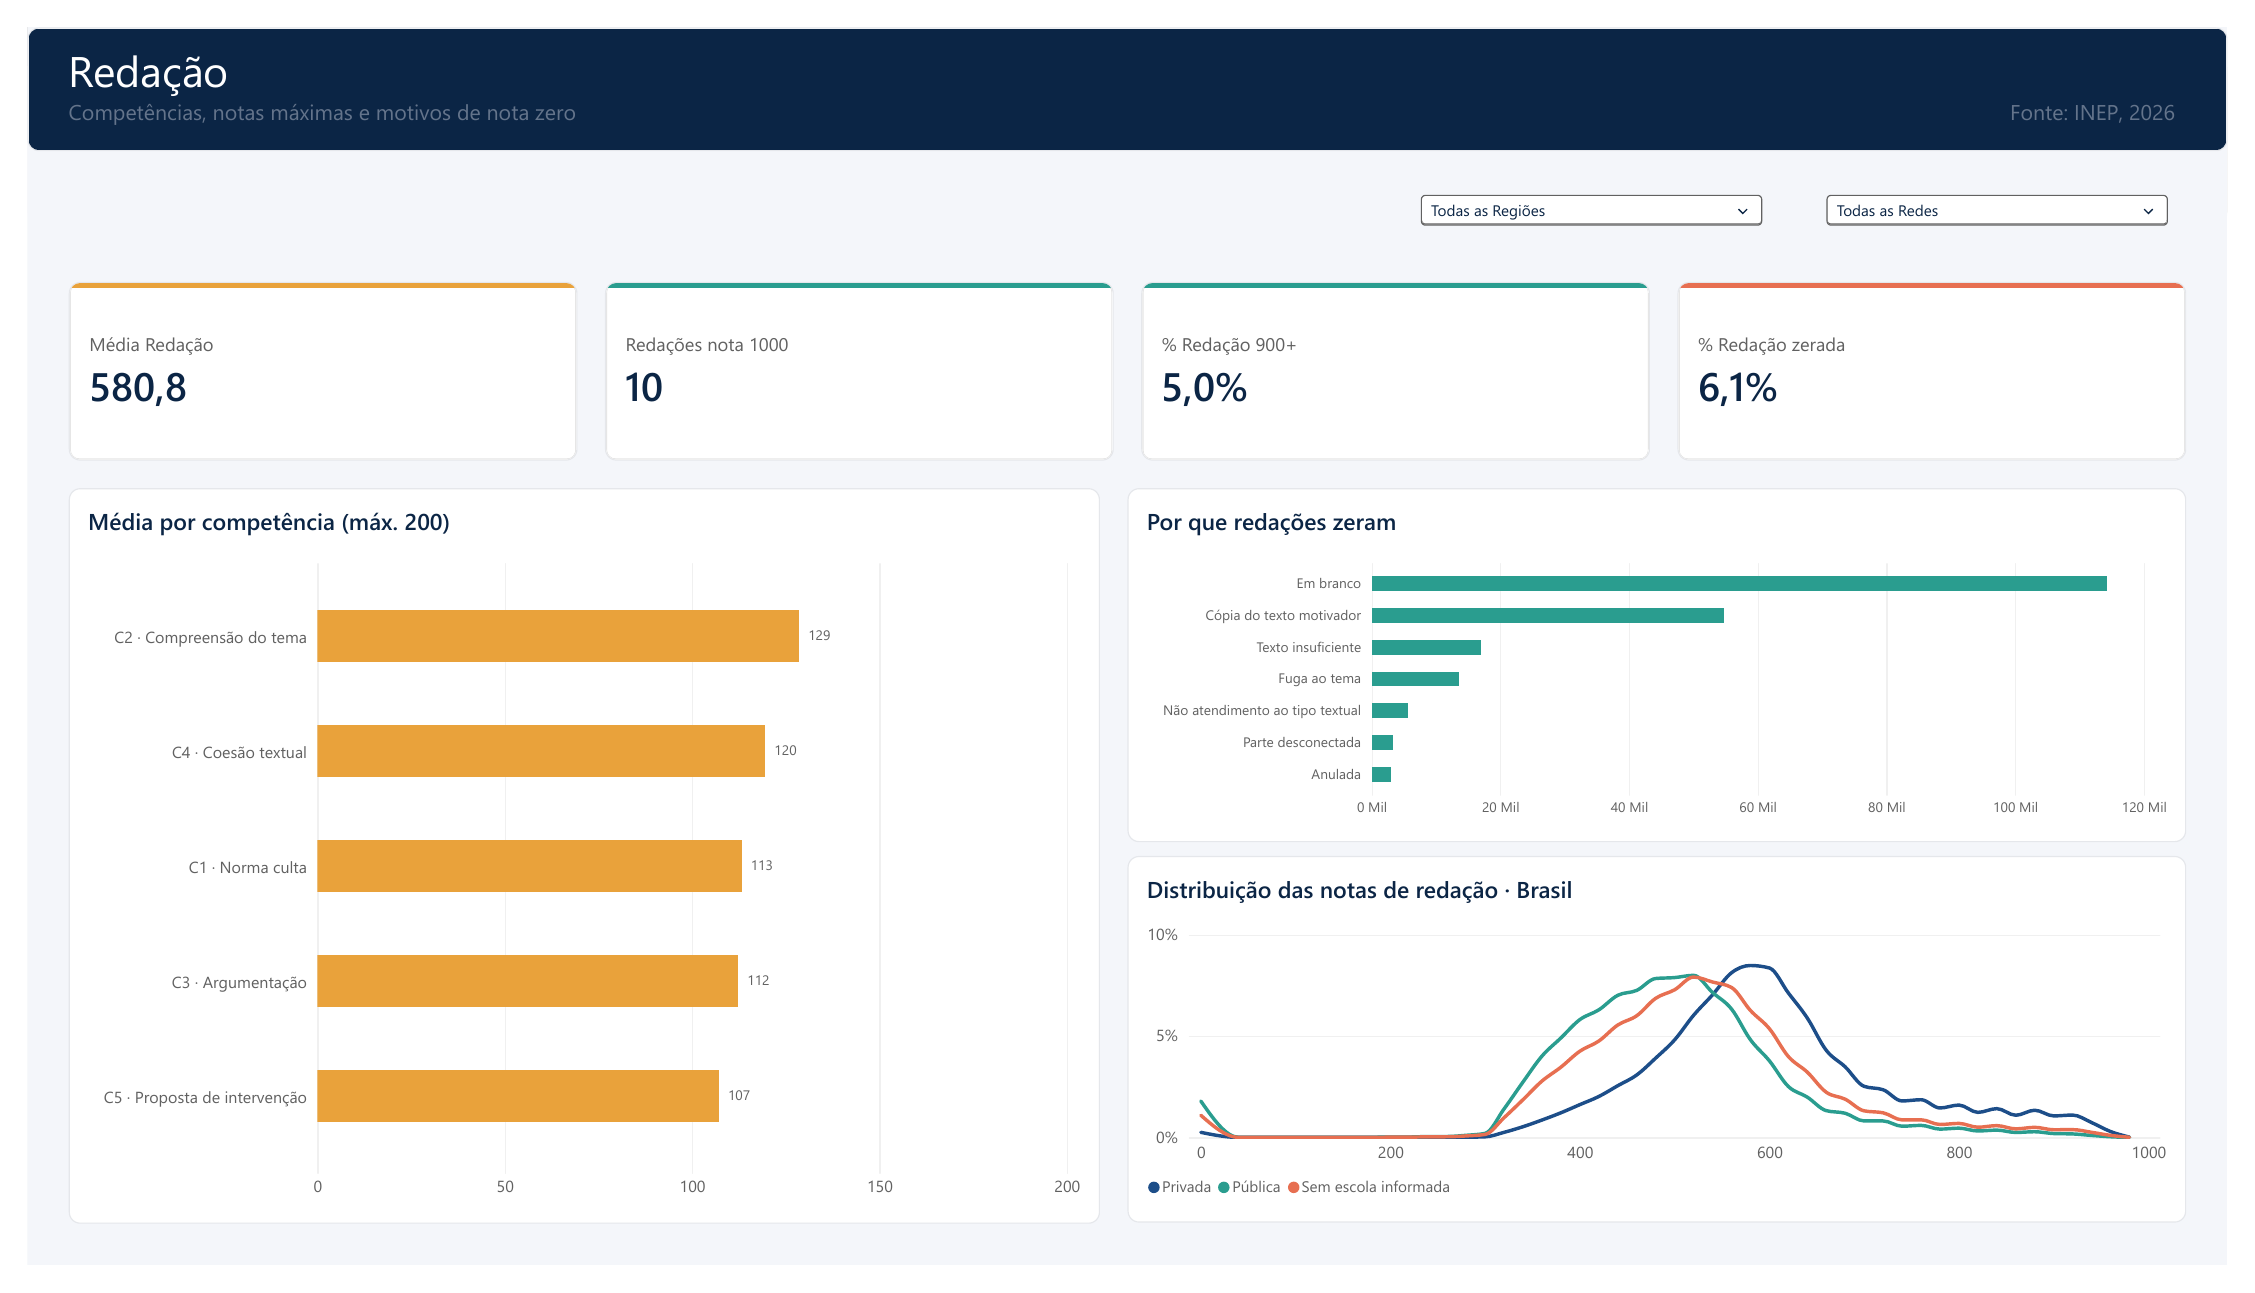

What the dashboard file says about the page in this screenshot:
{"tool":"powerbi","page":{"name":"Redação","canvas":[1920,1080],"ordinal":2},"visuals":[{"type":"listSlicer","fields":{"Values":["dim_uf.regiao"]},"box":[1200,132,330,66],"z":0},{"type":"listSlicer","fields":{"Values":["dim_rede.rede"]},"box":[1554,132,330,66],"z":1000},{"type":"shape","box":[0,0,1920,108],"z":2000},{"type":"textbox","box":[35.5,11.8,1855.7,82.9],"z":3000},{"type":"cardVisual","fields":{"Data":["_Medidas.Média Redação"]},"box":[36,222,444,156],"z":4000},{"type":"cardVisual","fields":{"Data":["_Medidas.Redações nota 1000"]},"box":[504,222,444,156],"z":5000},{"type":"cardVisual","fields":{"Data":["_Medidas.% Redação 900+"]},"box":[972,222,444,156],"z":6000},{"type":"cardVisual","fields":{"Data":["_Medidas.% Redação zerada"]},"box":[1440,222,444,156],"z":7000},{"type":"clusteredBarChart","title":"Média por competência (máx. 200)","fields":{"Category":["dim_competencia.competencia"],"Y":["_Medidas.Média por competência"]},"box":[36,402,900,642],"z":8000},{"type":"clusteredBarChart","title":"Por que redações zeram","fields":{"Category":["dim_status_redacao.status_redacao"],"Y":["_Medidas.Redações (status)"]},"box":[960,402,924,309],"z":9000},{"type":"lineChart","title":"Distribuição das notas de redação · Brasil","fields":{"Category":["fato_distribuicao.faixa_inicio"],"Series":["dim_rede.rede_grupo"],"Y":["_Medidas.% na faixa"]},"box":[960,722.9,924.3,320],"z":10000}]}

Visuals, with their boxes in screenshot pixels (x1, y1, x2, y2), scaled from the page's 1920x1080 canvas onto the 2255x1293 screenshot:
listSlicer - dim_uf.regiao: select_region(1409, 158, 1797, 237)
listSlicer - dim_rede.rede: select_region(1825, 158, 2213, 237)
shape: select_region(0, 0, 2254, 129)
textbox: select_region(42, 14, 2221, 113)
cardVisual - _Medidas.Média Redação: select_region(42, 266, 564, 453)
cardVisual - _Medidas.Redações nota 1000: select_region(592, 266, 1113, 453)
cardVisual - _Medidas.% Redação 900+: select_region(1142, 266, 1663, 453)
cardVisual - _Medidas.% Redação zerada: select_region(1691, 266, 2213, 453)
"Média por competência (máx. 200)" clusteredBarChart: select_region(42, 481, 1099, 1250)
"Por que redações zeram" clusteredBarChart: select_region(1128, 481, 2213, 851)
"Distribuição das notas de redação · Brasil" lineChart: select_region(1128, 865, 2213, 1249)
